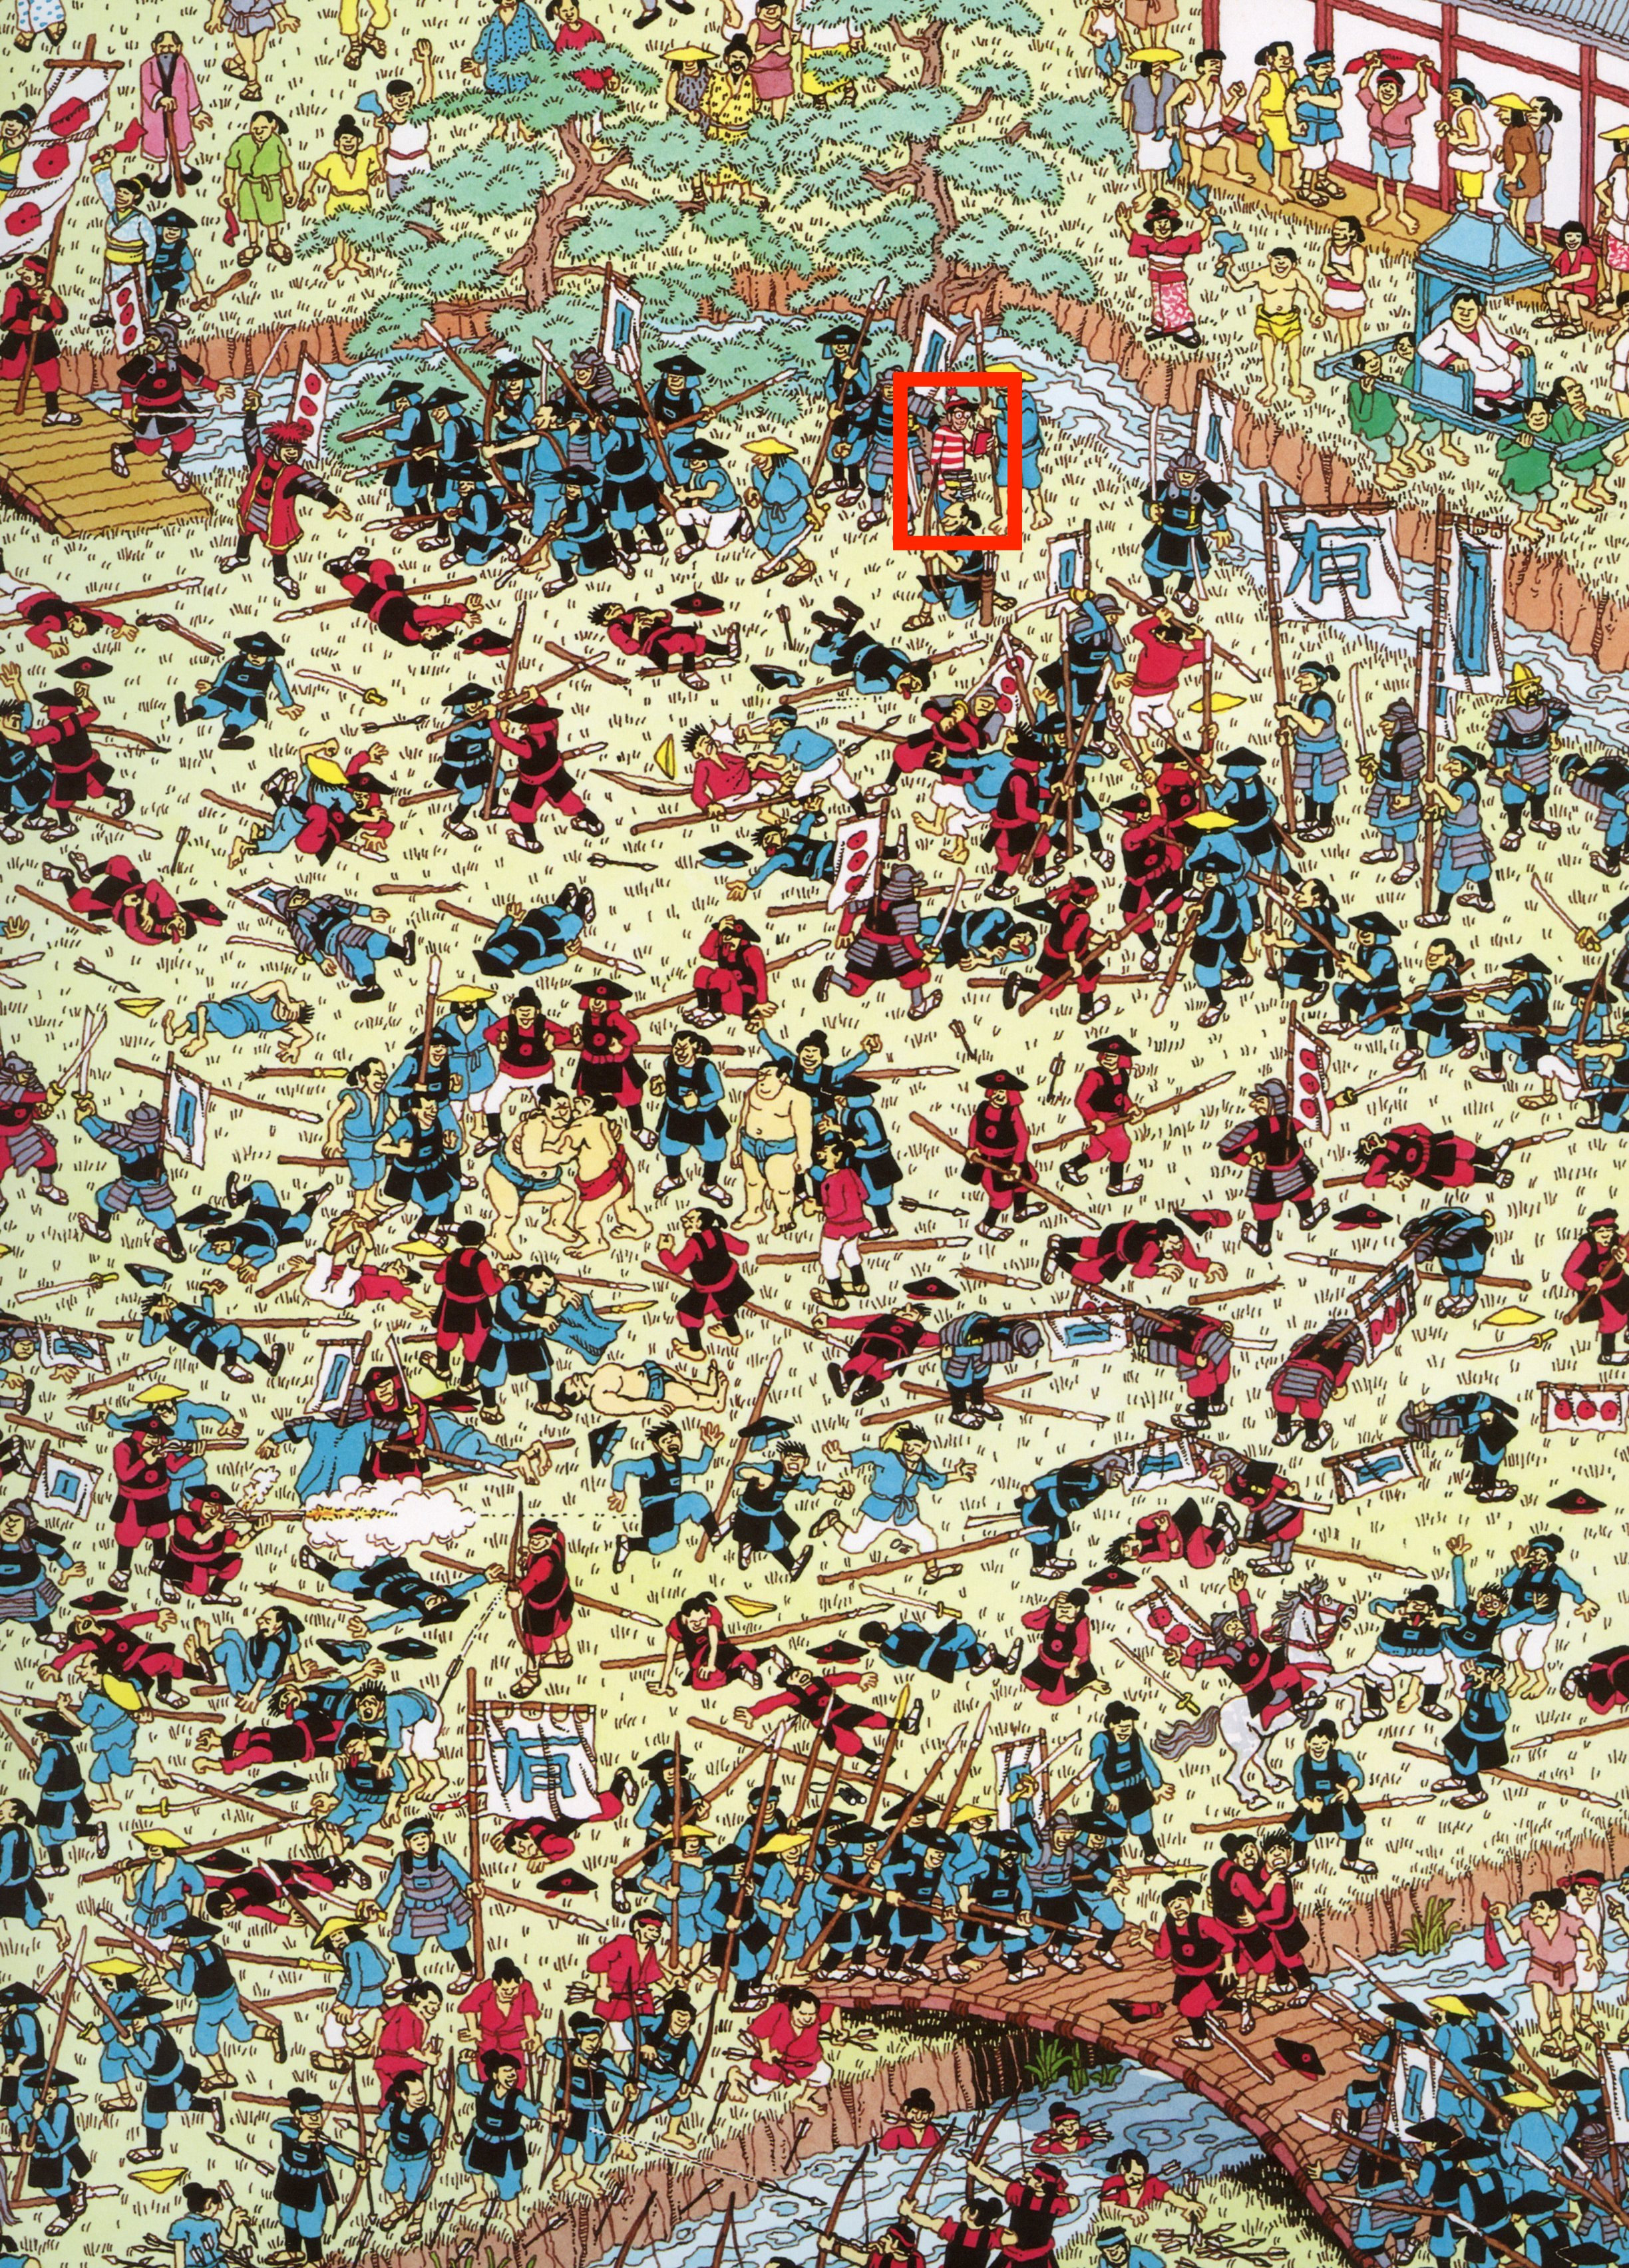waldo: (898, 363, 1032, 567)
